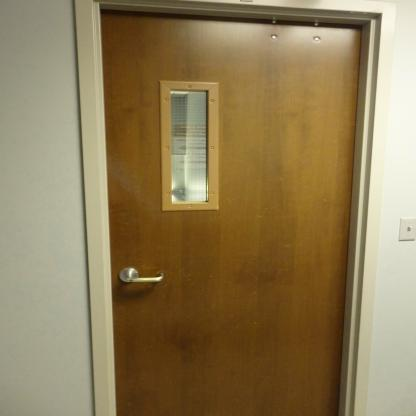door: (101, 4, 348, 415)
lever: (121, 269, 168, 289)
